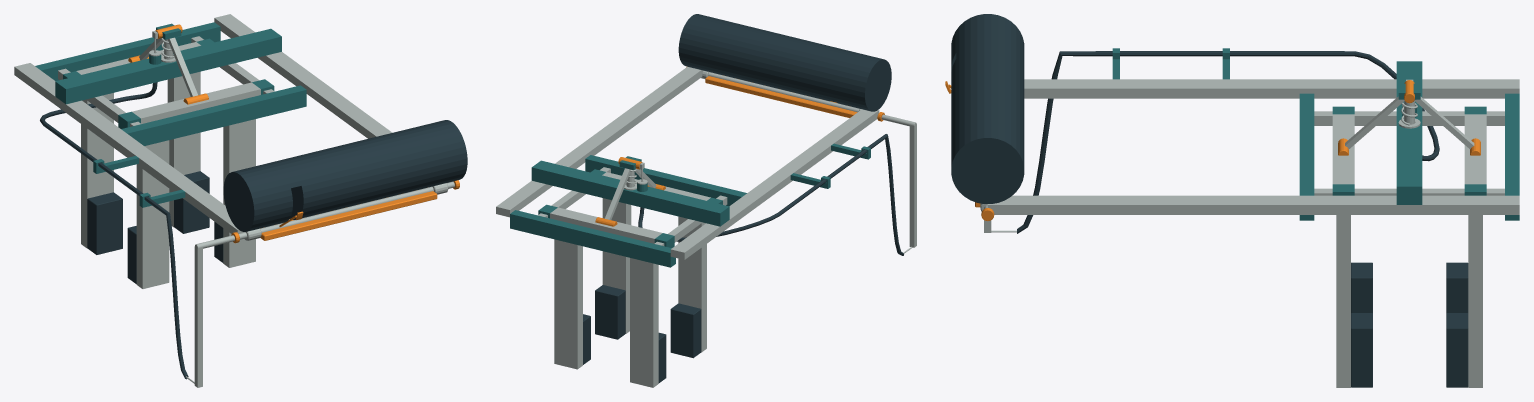
File: small-package-gripper.glb
3 views of the same model, side by side, from view 1: azimuth 30°, elevation 25°; view 2: azimuth 150°, elevation 25°; view 3: azimuth 270°, elevation 25° (orthographic). The views are drawn at different scales.
Parts seen in each view (by area): view 1: small-package-gripper, small-package-gripper__batch_06, small-package-gripper__batch_10, small-package-gripper__batch_09, small-package-gripper__batch_18, small-package-gripper__batch_19, small-package-gripper__batch_05, small-package-gripper__batch_13, small-package-gripper__batch_08; view 2: small-package-gripper, small-package-gripper__batch_10, small-package-gripper__batch_06, small-package-gripper__batch_05, small-package-gripper__batch_18, small-package-gripper__batch_19, small-package-gripper__batch_09, small-package-gripper__batch_14; view 3: small-package-gripper, small-package-gripper__batch_06, small-package-gripper__batch_10, small-package-gripper__batch_09, small-package-gripper__batch_05, small-package-gripper__batch_13, small-package-gripper__batch_14.
Part boxes in pixels (x1,y1,x2,y2): small-package-gripper: (14, 14, 467, 383); small-package-gripper__batch_06: (132, 82, 260, 288); small-package-gripper__batch_10: (76, 42, 200, 248); small-package-gripper__batch_09: (87, 171, 209, 254); small-package-gripper__batch_18: (194, 182, 454, 387); small-package-gripper__batch_19: (231, 180, 459, 243); small-package-gripper__batch_05: (127, 221, 223, 283); small-package-gripper__batch_13: (167, 37, 197, 96); small-package-gripper__batch_08: (118, 79, 274, 128); small-package-gripper: (496, 14, 912, 267); small-package-gripper__batch_10: (550, 207, 662, 387); small-package-gripper__batch_06: (602, 172, 710, 352); small-package-gripper__batch_05: (595, 285, 701, 358); small-package-gripper__batch_18: (708, 72, 916, 247); small-package-gripper__batch_19: (686, 67, 884, 121); small-package-gripper__batch_09: (583, 314, 666, 383); small-package-gripper__batch_14: (605, 168, 631, 219); small-package-gripper: (951, 14, 1519, 233); small-package-gripper__batch_06: (1332, 114, 1354, 387); small-package-gripper__batch_10: (1464, 114, 1486, 387); small-package-gripper__batch_09: (1446, 262, 1468, 387); small-package-gripper__batch_05: (1351, 262, 1372, 387); small-package-gripper__batch_13: (1345, 96, 1404, 149); small-package-gripper__batch_14: (1414, 96, 1474, 149).
Bounding box in the file's own units: 0.197 × 0.1679 × 0.3131.
